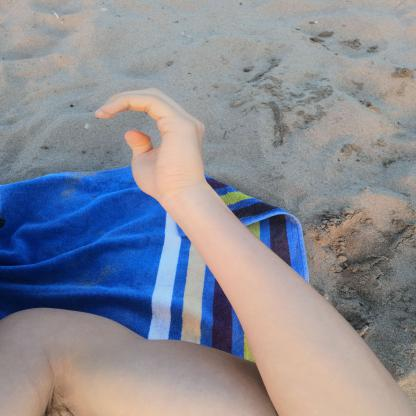JEEM: (82, 79, 219, 203)
